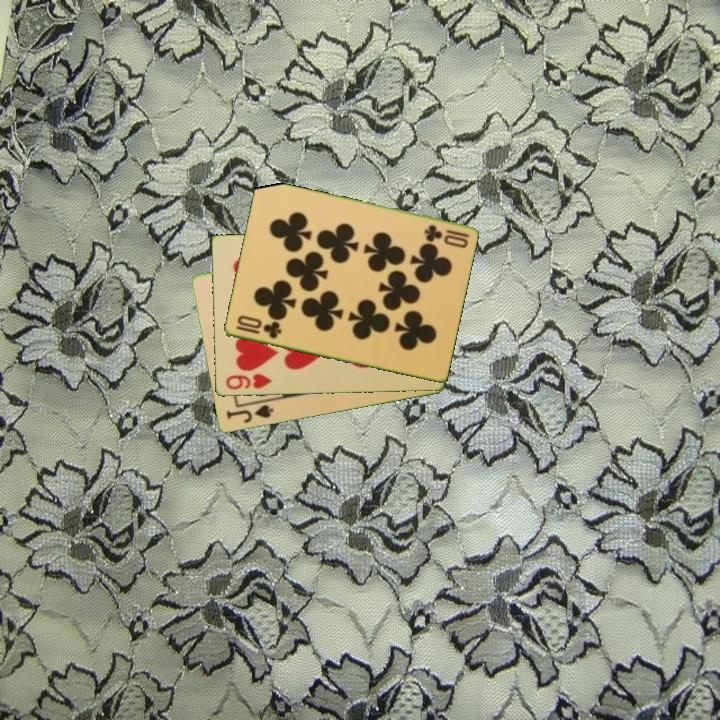10c: (232, 312, 284, 342), (420, 221, 472, 250)
9h: (222, 370, 275, 393)
Js: (223, 401, 276, 426)
